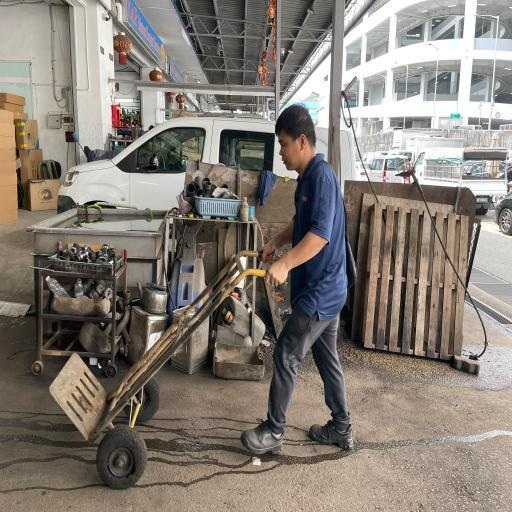person_left: (50, 105, 357, 489)
